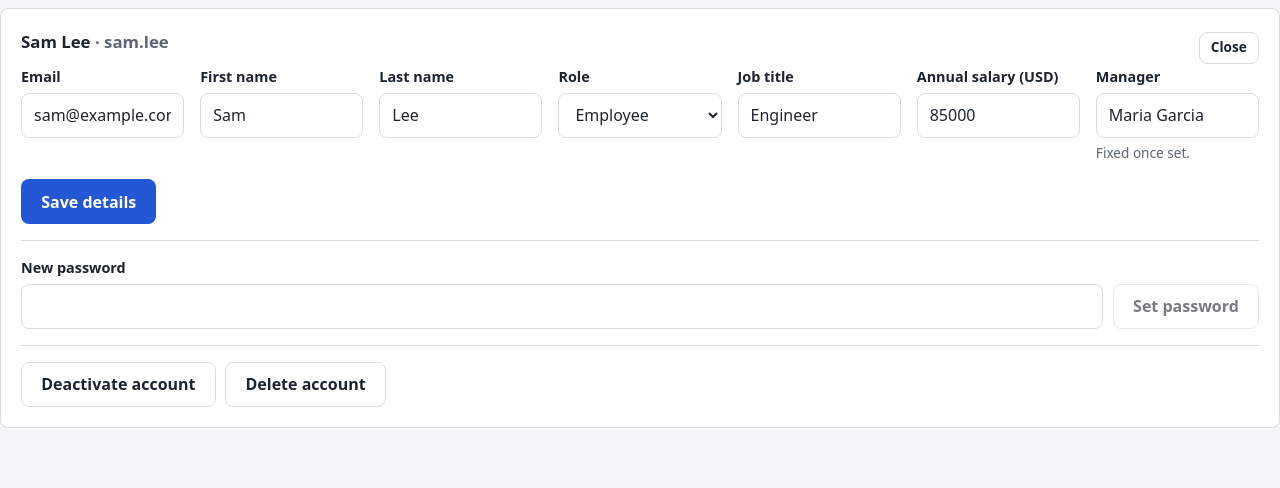
Test: AccountPanel activation › deactivates after confirmation
Step 1. Click the button "Deactivate account" → click(118, 384), box [21, 362, 216, 407]
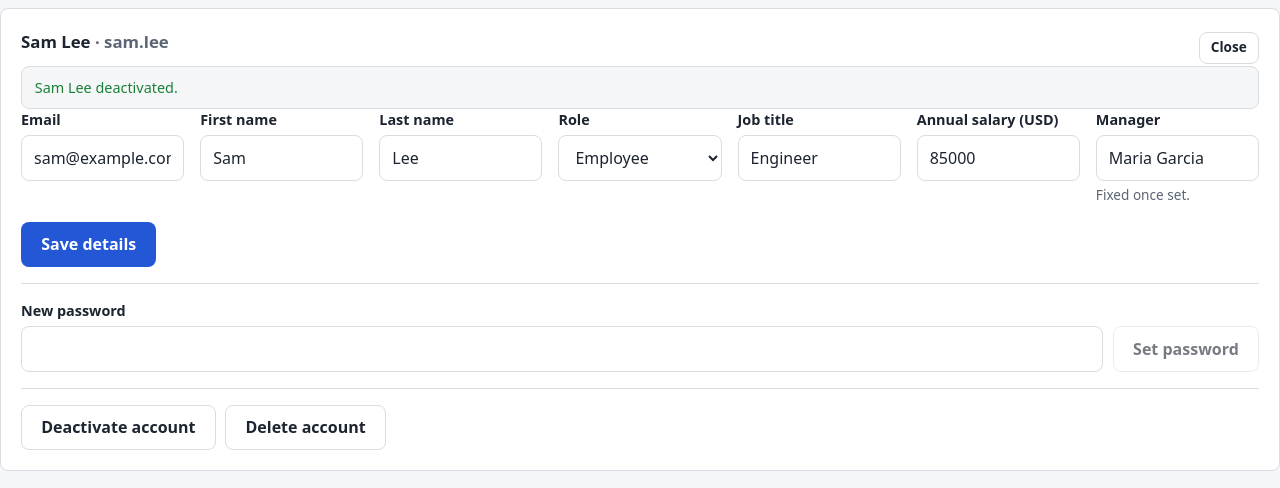
Check: the message reads "Sam Lee deactivated.", box [35, 78, 178, 97]
